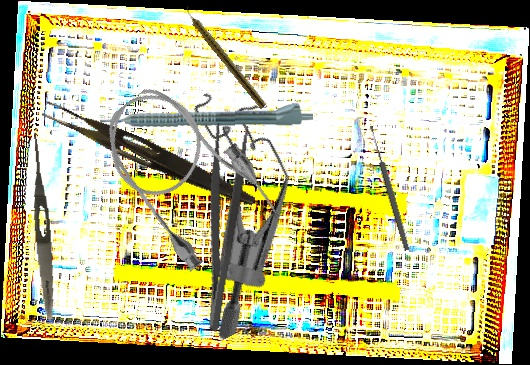Cannula: (84, 65, 288, 280)
Dressing Forceps: (37, 99, 261, 210), (187, 122, 252, 332), (25, 129, 59, 321)
Handpiece: (181, 4, 269, 110), (99, 100, 314, 129)
Speculum: (117, 73, 348, 343)
Surgical Spoon: (367, 124, 412, 252)
